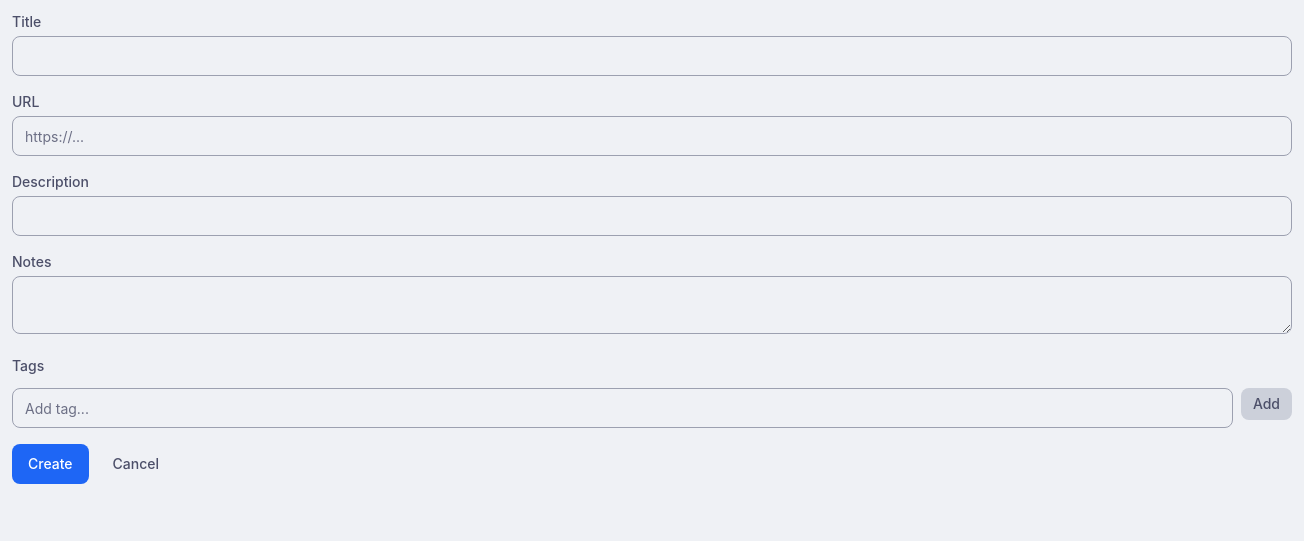
Test: ItemForm validation per type › rejects invalid URLs without fetching
Type "Bad link" into the field labelled "Title".
click(652, 56); type("Bad link")  # box [12,36,1292,76]
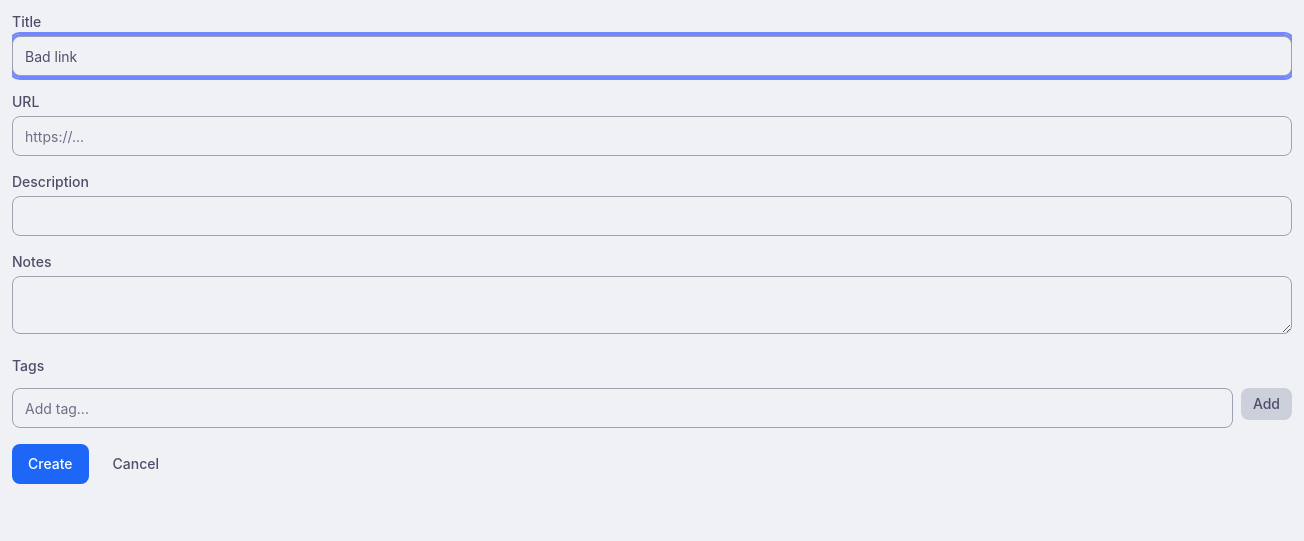
Type "not a url" into the field labelled "URL".
click(652, 136); type("not a url")  # box [12,116,1292,156]
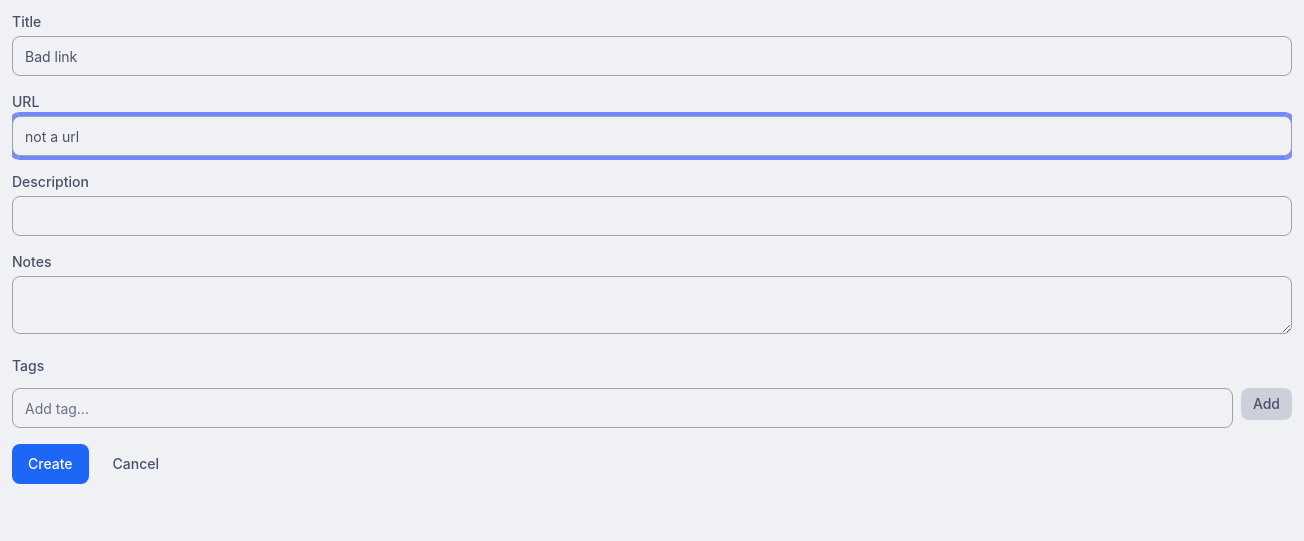
Click the button "Create".
click(50, 464)  # box [12,444,89,484]
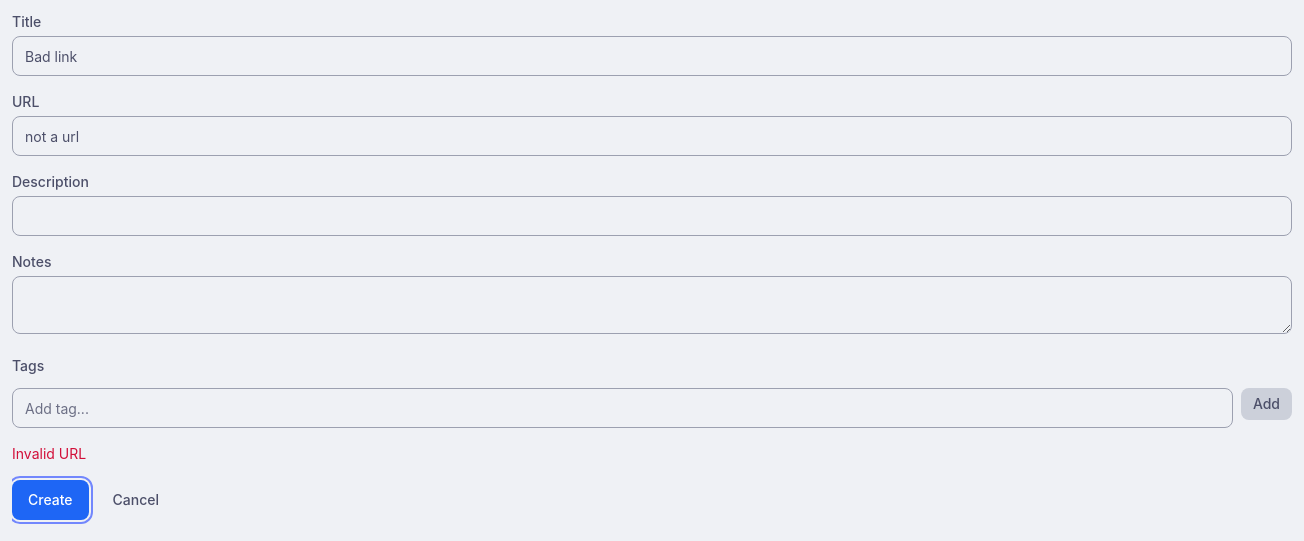
Result: the message reads "Invalid URL" at [12,445,86,462]
